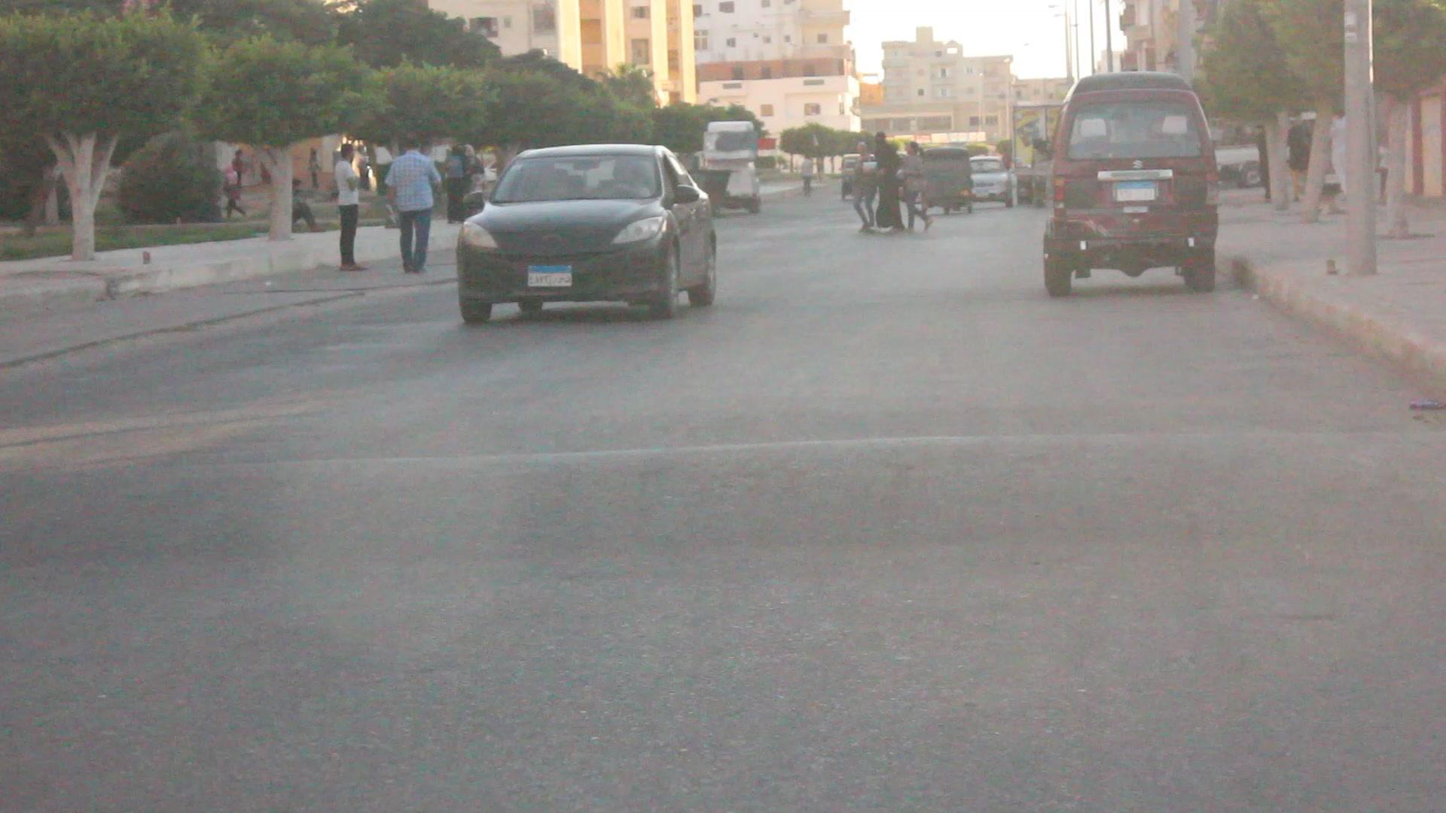Bump: (0, 423, 1446, 568)
